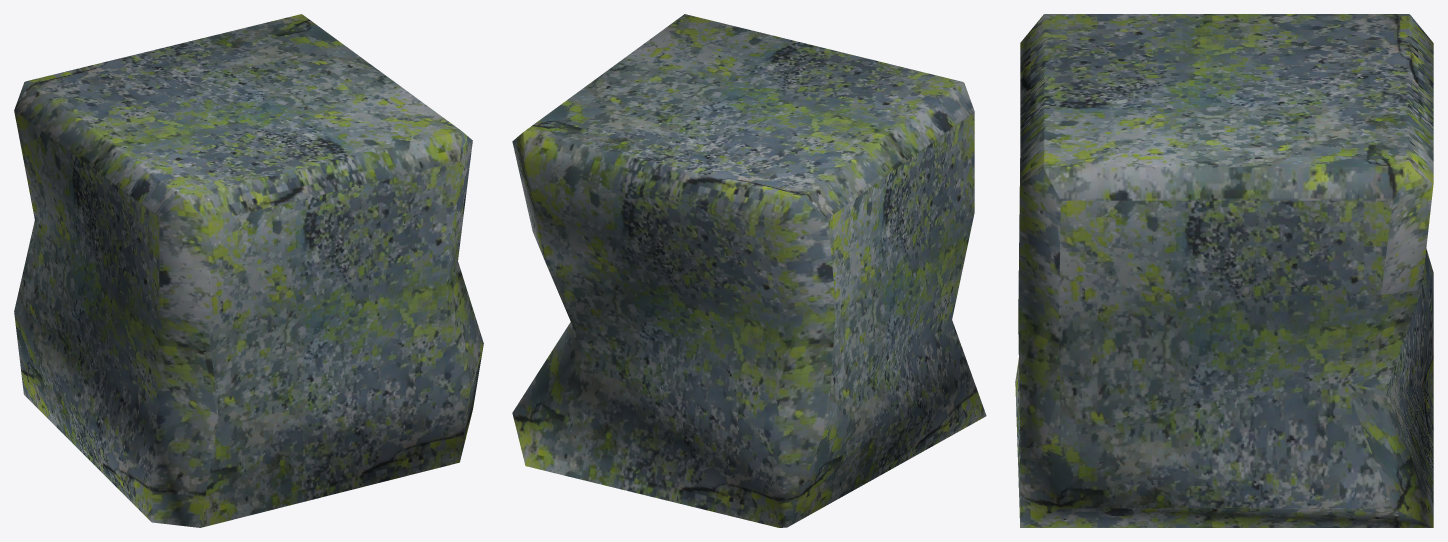
The model's file is INST_MIRK_PUSHBLOCK.fbx.
The picture shows the model from 3 angles, left to right: view 1: azimuth 30°, elevation 25°; view 2: azimuth 150°, elevation 25°; view 3: azimuth 270°, elevation 25°; orthographic projection. The views are drawn at different scales.
Parts seen in each view (by area): view 1: INST_MIRK_PUSHBLOCK; view 2: INST_MIRK_PUSHBLOCK; view 3: INST_MIRK_PUSHBLOCK.
Boxes of the visible parts, x1,y1,x2,y2 form: INST_MIRK_PUSHBLOCK: (14,14,483,527); INST_MIRK_PUSHBLOCK: (512,14,986,527); INST_MIRK_PUSHBLOCK: (1015,14,1433,527).
Size of the model in its own units: 10665 by 9789 by 10116.
1 material, 1 textured.
